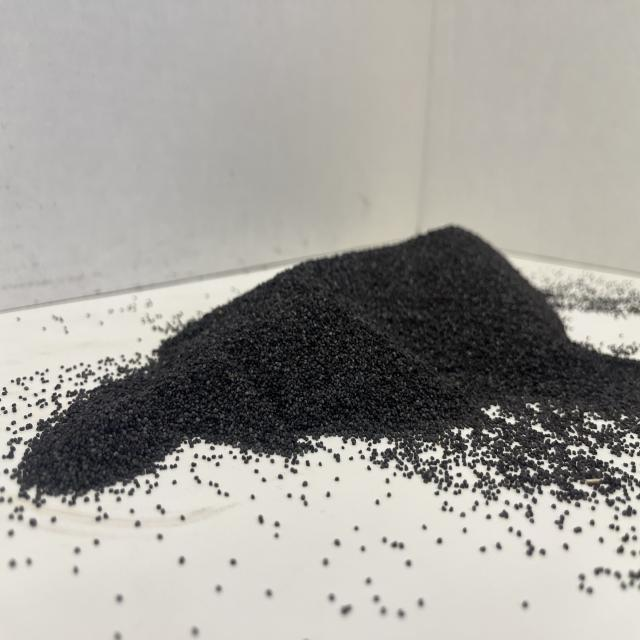Poppy Seeds: (19, 212, 640, 521)
